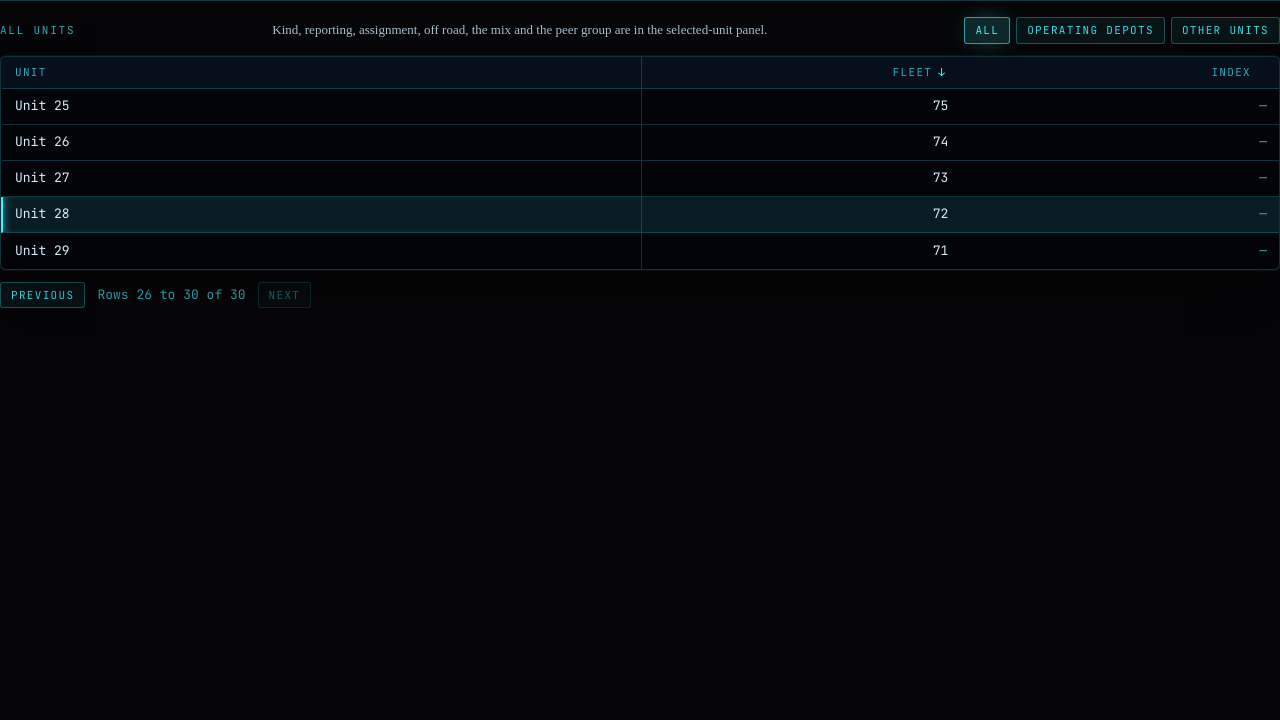
units table › brings the page of a unit selected elsewhere into view, and keeps it selected across pages
Check: the row "Unit 28 72 —" is shown, box [1,196,1279,232]
Click the button "Previous".
click(43, 295)  # box [0,282,85,308]
(page scrolled)
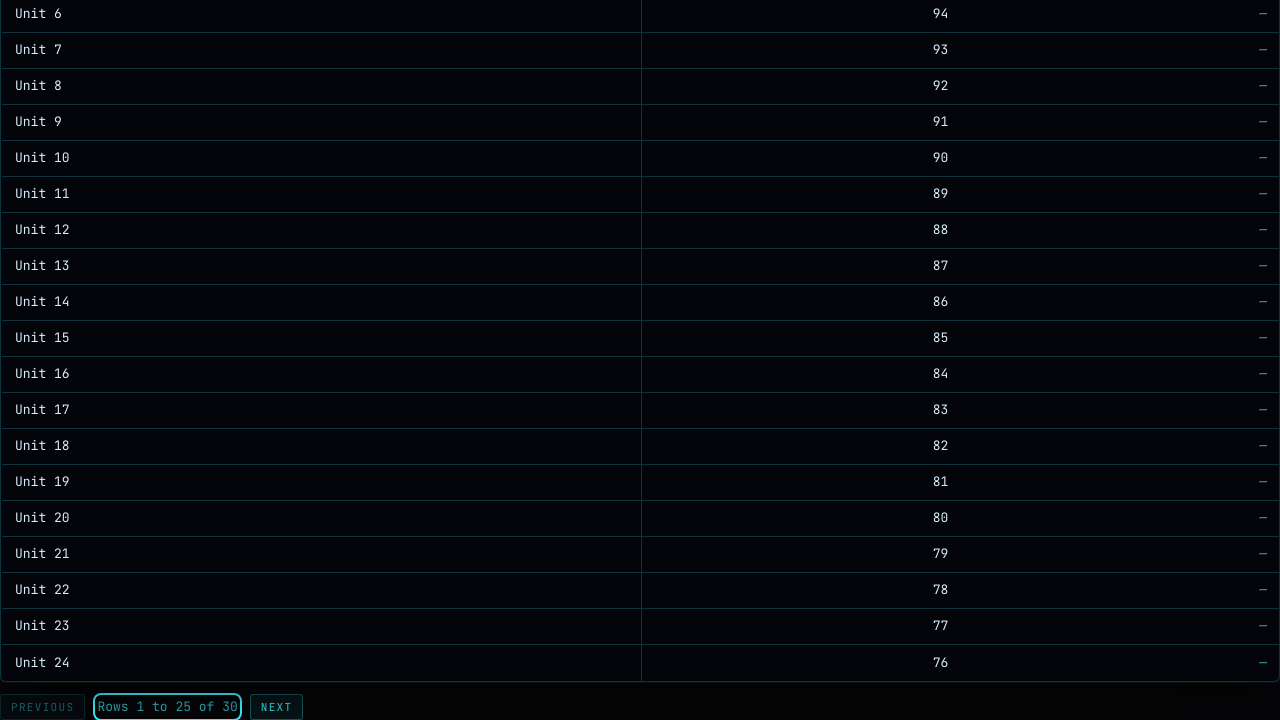
Click the button "Next".
click(277, 707)  # box [250,694,304,719]
(page scrolled)
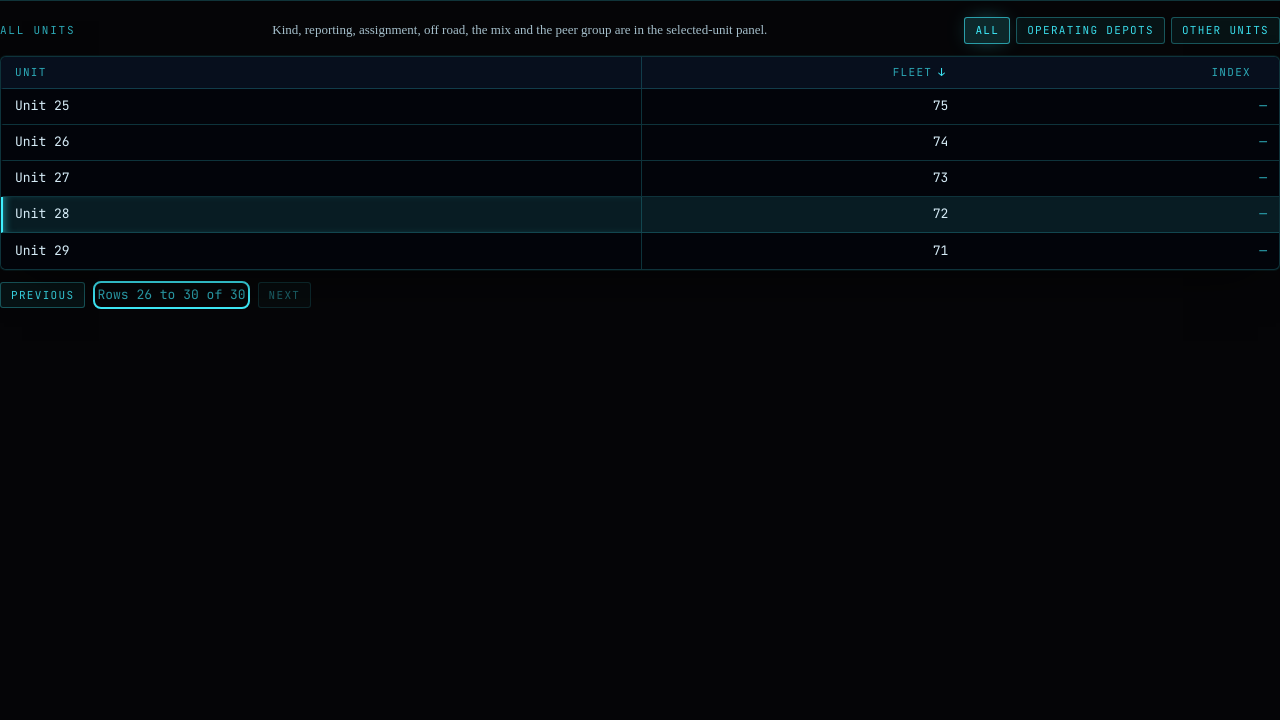
Check: the row "Unit 28 72 —" is shown, box [1,196,1279,232]
